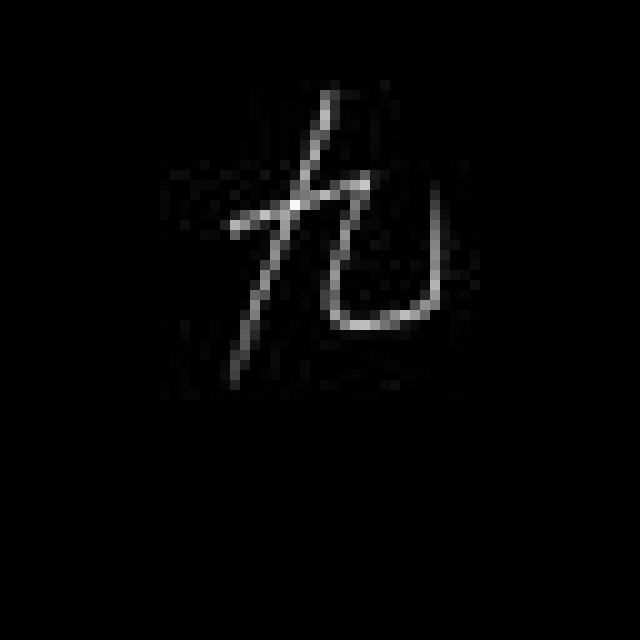9 -nine-: (217, 88, 458, 394)
